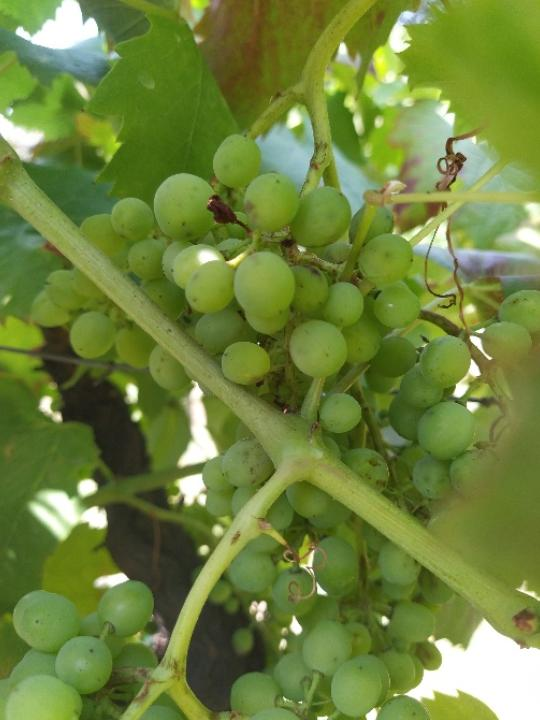grape: (32, 128, 540, 704)
